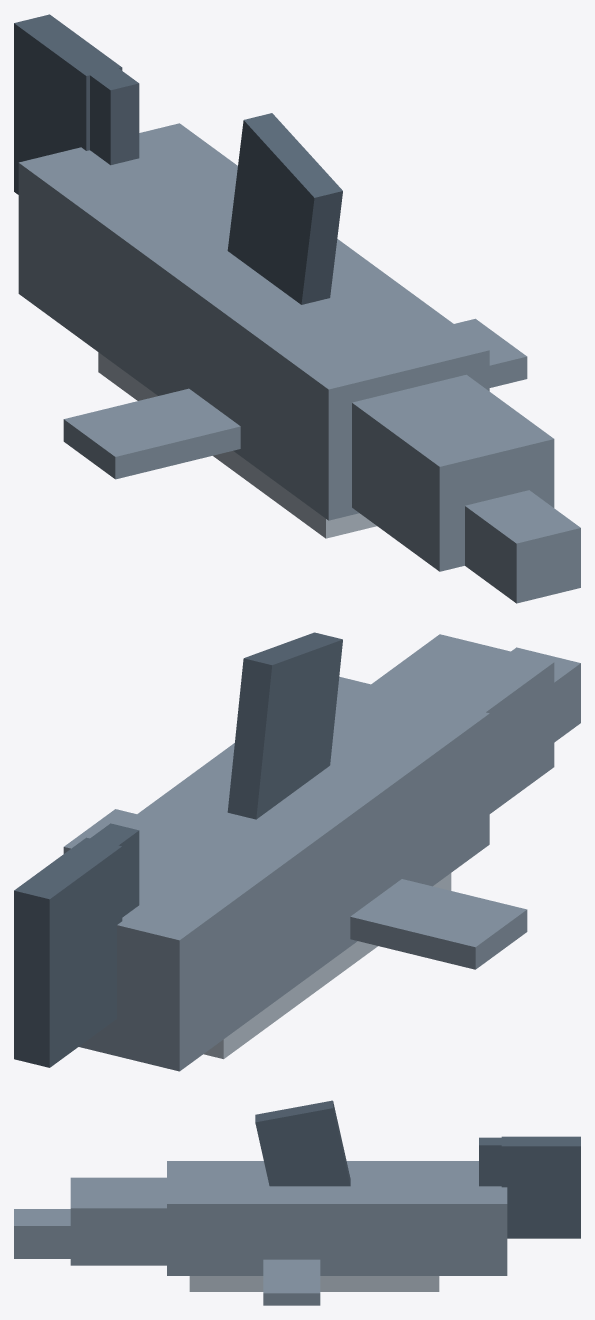
File: shark.glb
3 views of the same model, one above another, from view 1: azimuth 30°, elevation 25°; view 2: azimuth 150°, elevation 25°; view 3: azimuth 270°, elevation 25° (orthographic). The views are drawn at different scales.
Visible parts, largest first — view 1: shark; view 2: shark; view 3: shark.
Boxes of the visible parts, left/top/right/bottom form: shark: left=14, top=14, right=580, bottom=603; shark: left=14, top=632, right=580, bottom=1071; shark: left=14, top=1100, right=580, bottom=1305.
Size of the model in its own units: 1.15 by 0.8308 by 2.5.
